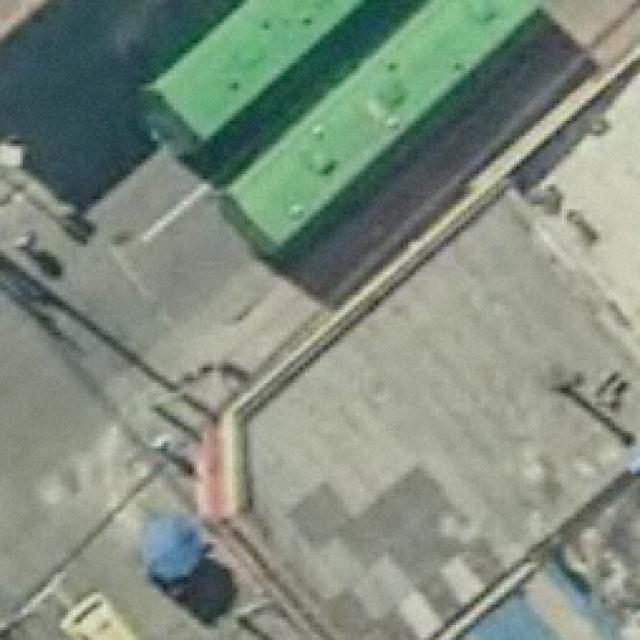vendedor_ambulante: (134, 514, 208, 584)
